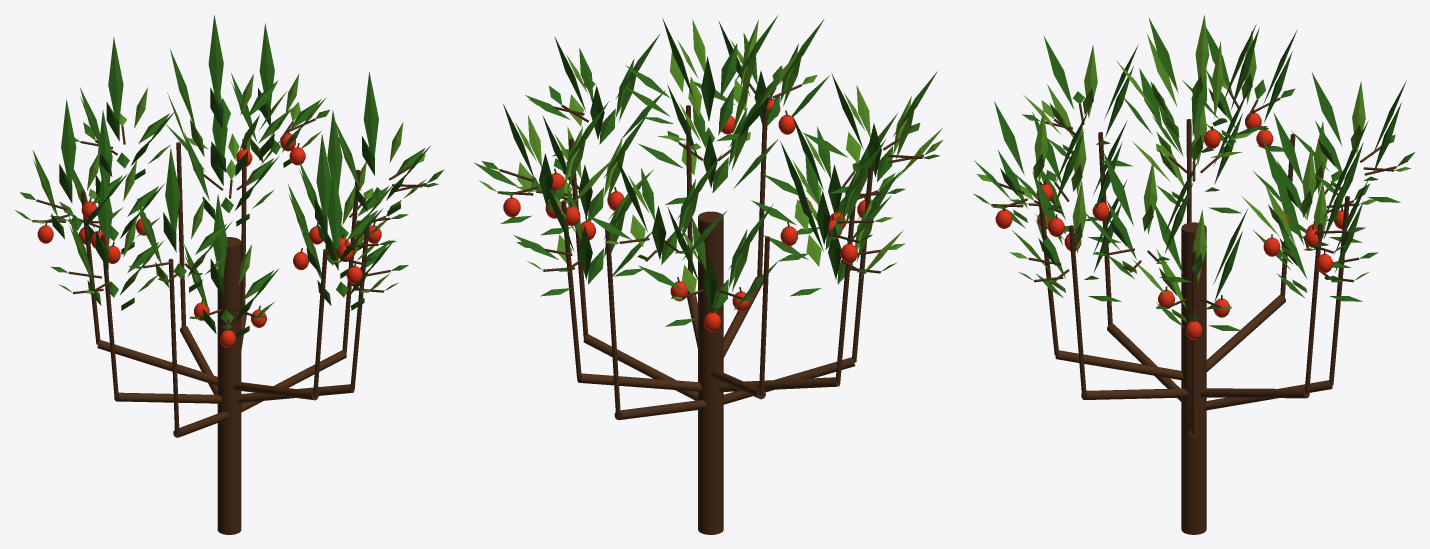
File: Almafa.obj
The picture shows the model from 3 angles, left to right: view 1: azimuth 30°, elevation 25°; view 2: azimuth 150°, elevation 25°; view 3: azimuth 270°, elevation 25°; orthographic projection. The views are drawn at different scales.
Bounding box in the file's own units: 3.36 × 4.29 × 3.36.
